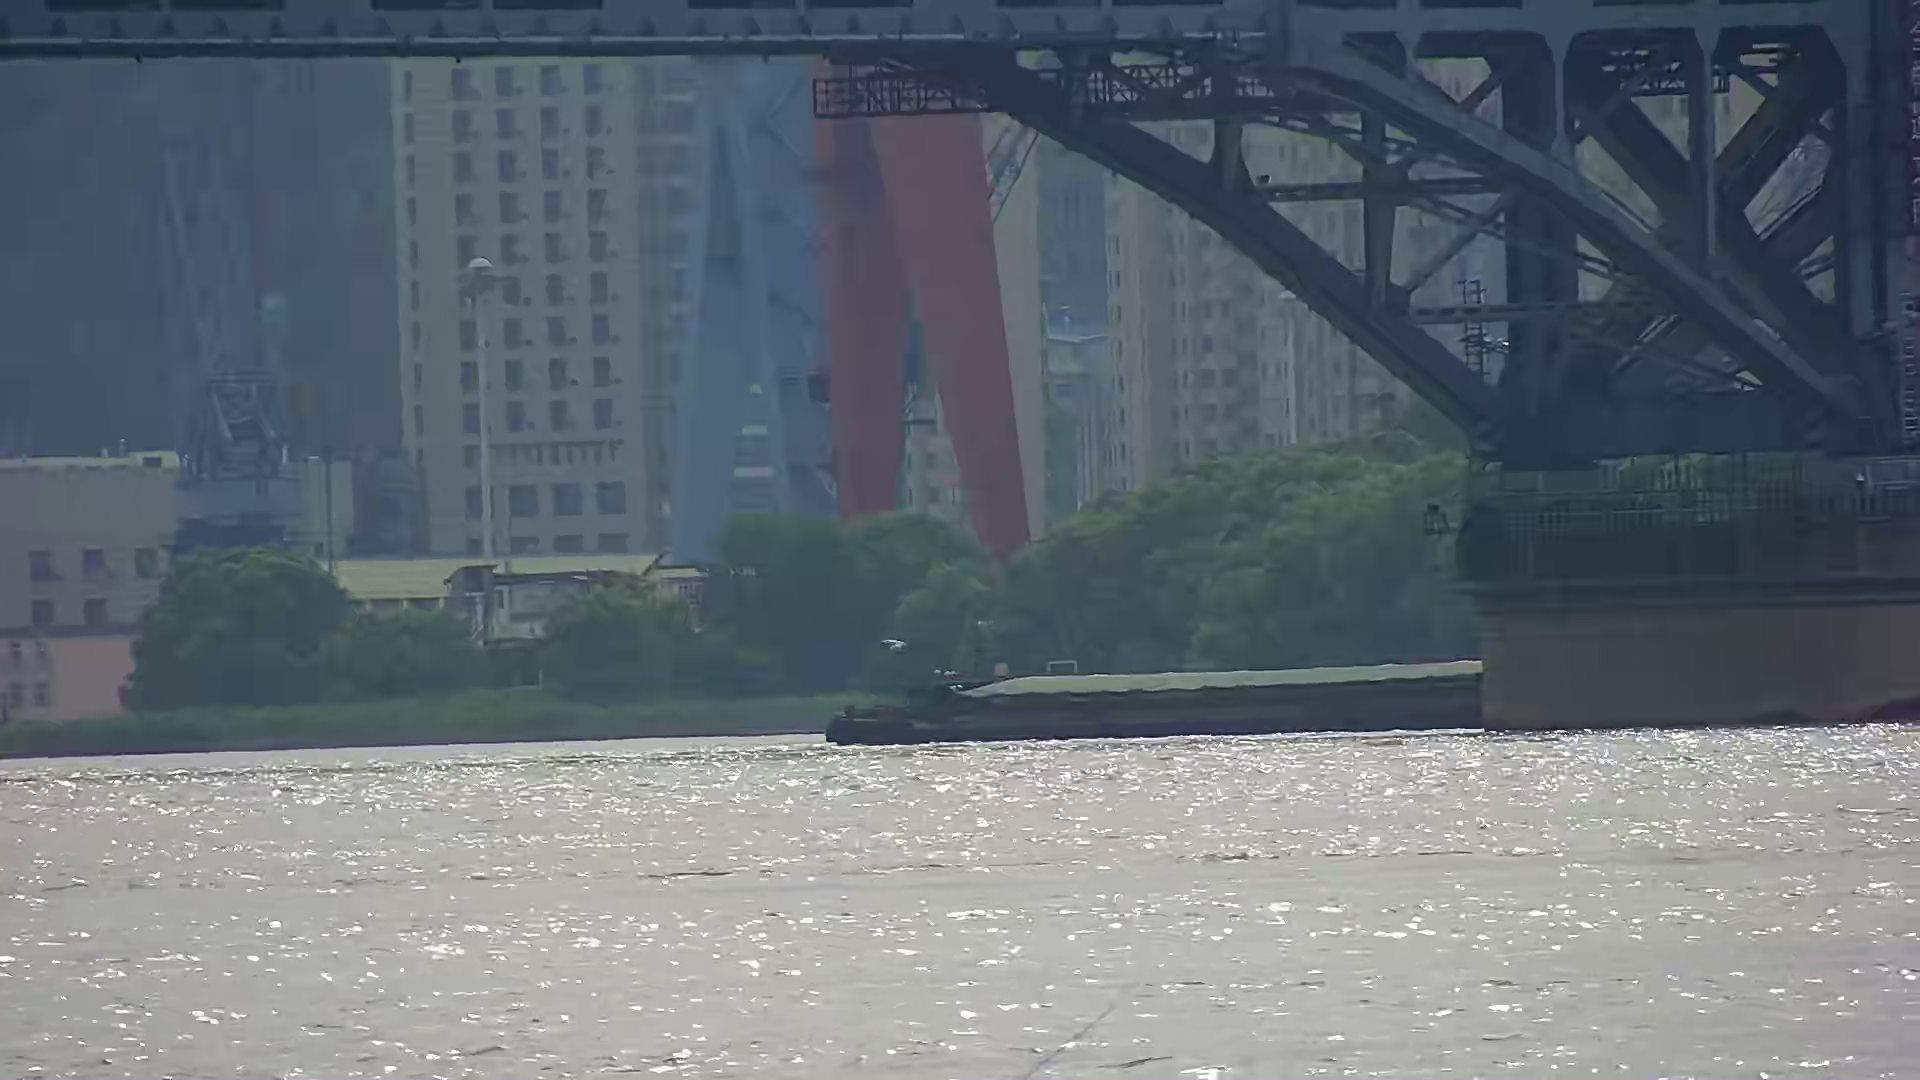bridge: (1, 3, 1920, 729)
ship: (825, 657, 1480, 750)
